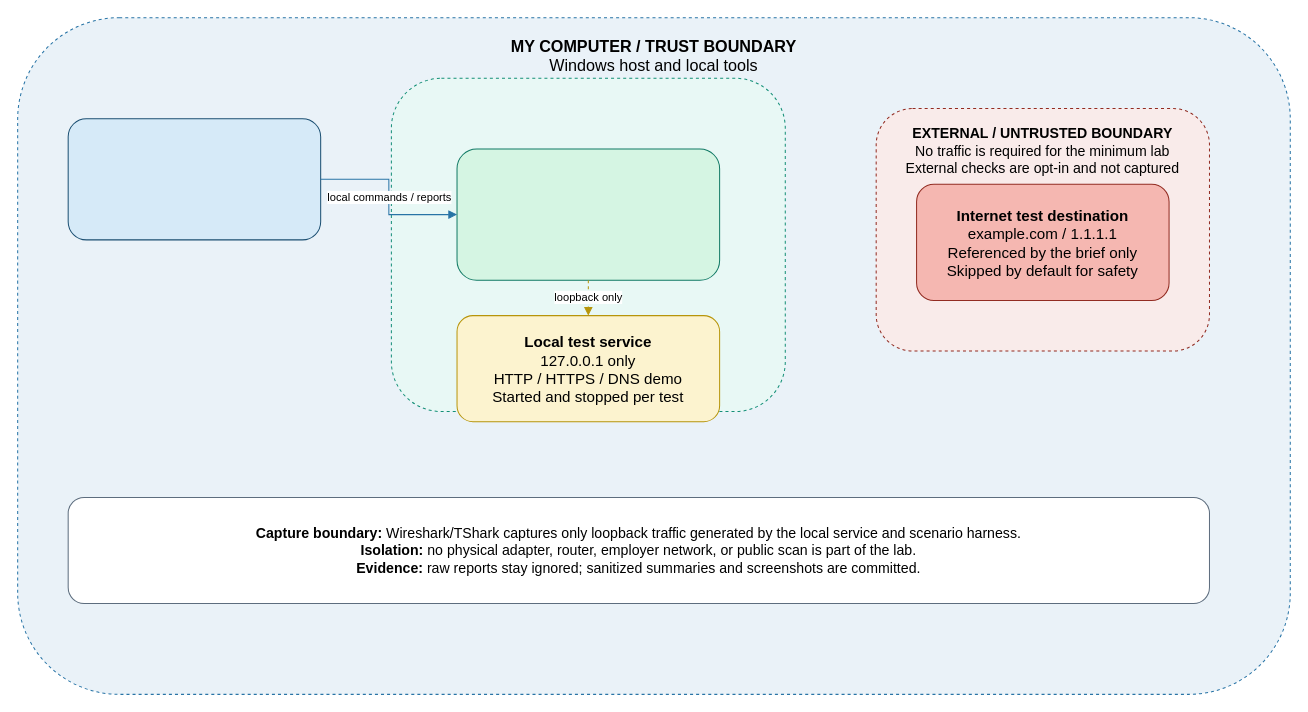
Image size: 1308x712. Some labels were removed from this diagram. Each missing label, with the box of its shape:
Windows Host PowerShell, Git, Wireshark Commands and screenshots run here: (67, 118, 321, 240)
WSL2 TRUST BOUNDARY Ubuntu 26.04.1 LTS Linux diagnostics and synthetic tests: (390, 77, 785, 412)
WSL2 Ubuntu linux-baseline.sh Scenario harness Synthetic files only: (456, 148, 720, 280)
